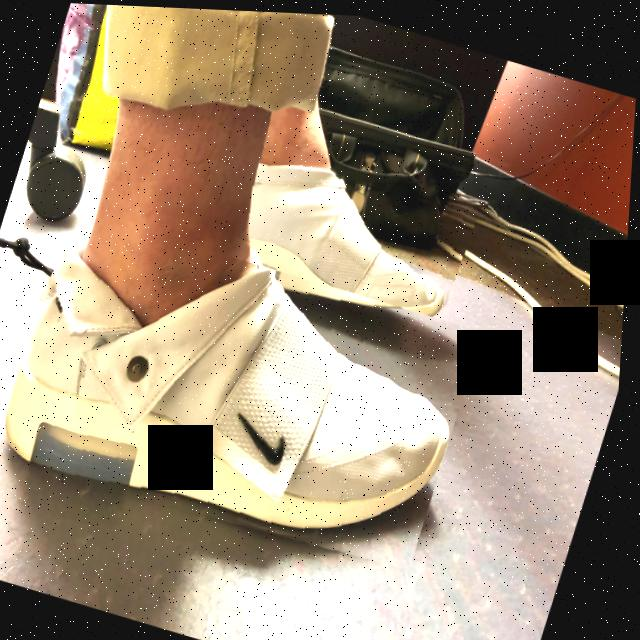shoe: (0, 205, 491, 580), (216, 140, 484, 338)
